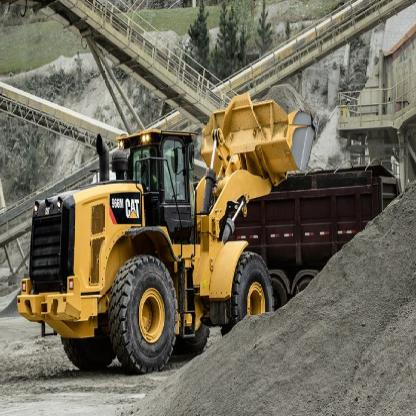bull_dozer/loader/grader: (19, 58, 323, 372)
